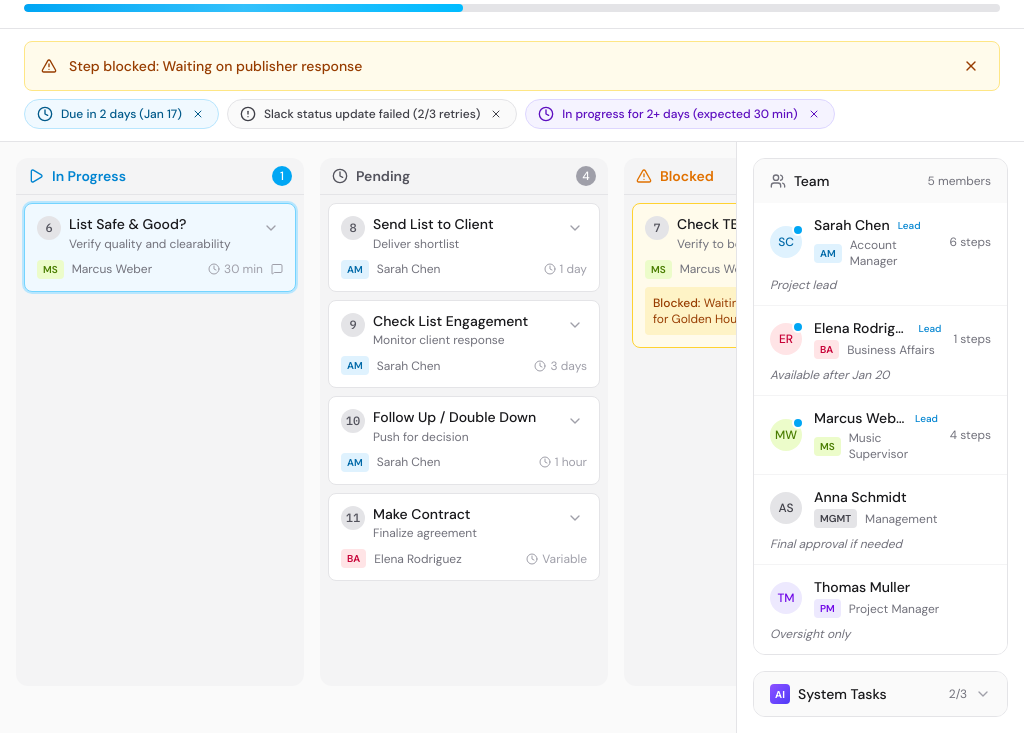
Scenario: System Task Tests › should expand system tasks when clicking toggle
This screenshot has width=1024, height=733.
(page scrolled)
Click to expand
Click the button "AI System Tasks 2/3" at (880, 694), box [754,672,1007,716]
(page scrolled)
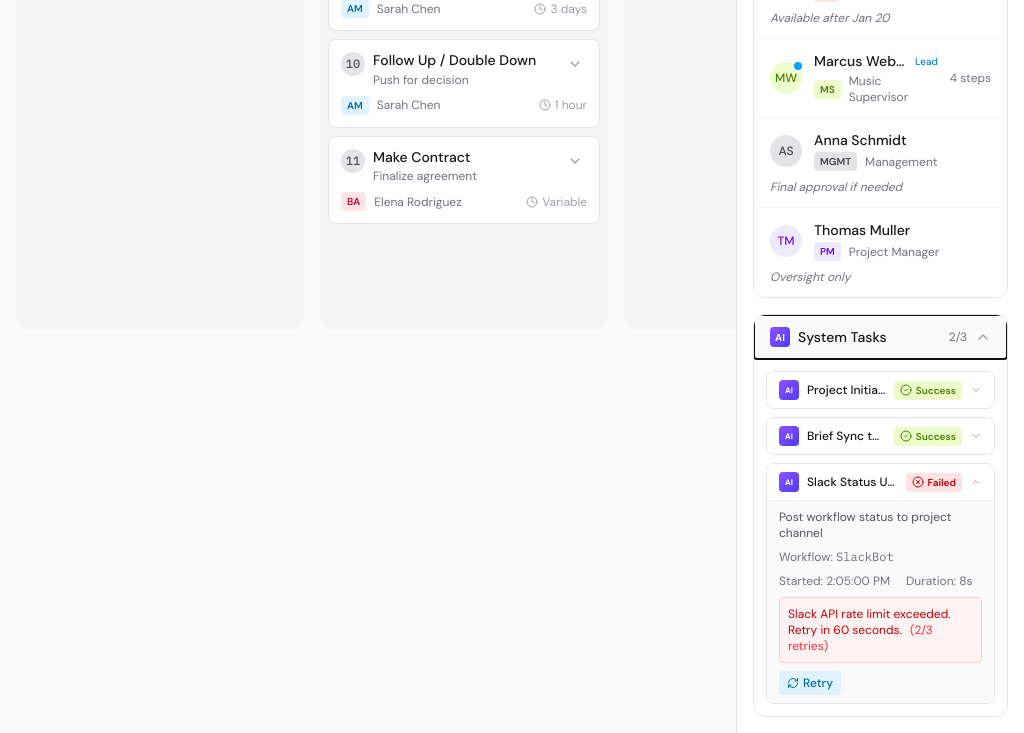
Now the text "Project Initialization" is shown, box [807,382,886,398]
Now the text "Brief Sync to Nextcloud" is shown, box [807,428,886,444]
Now the text "Slack Status Update" is shown, box [807,474,898,490]
